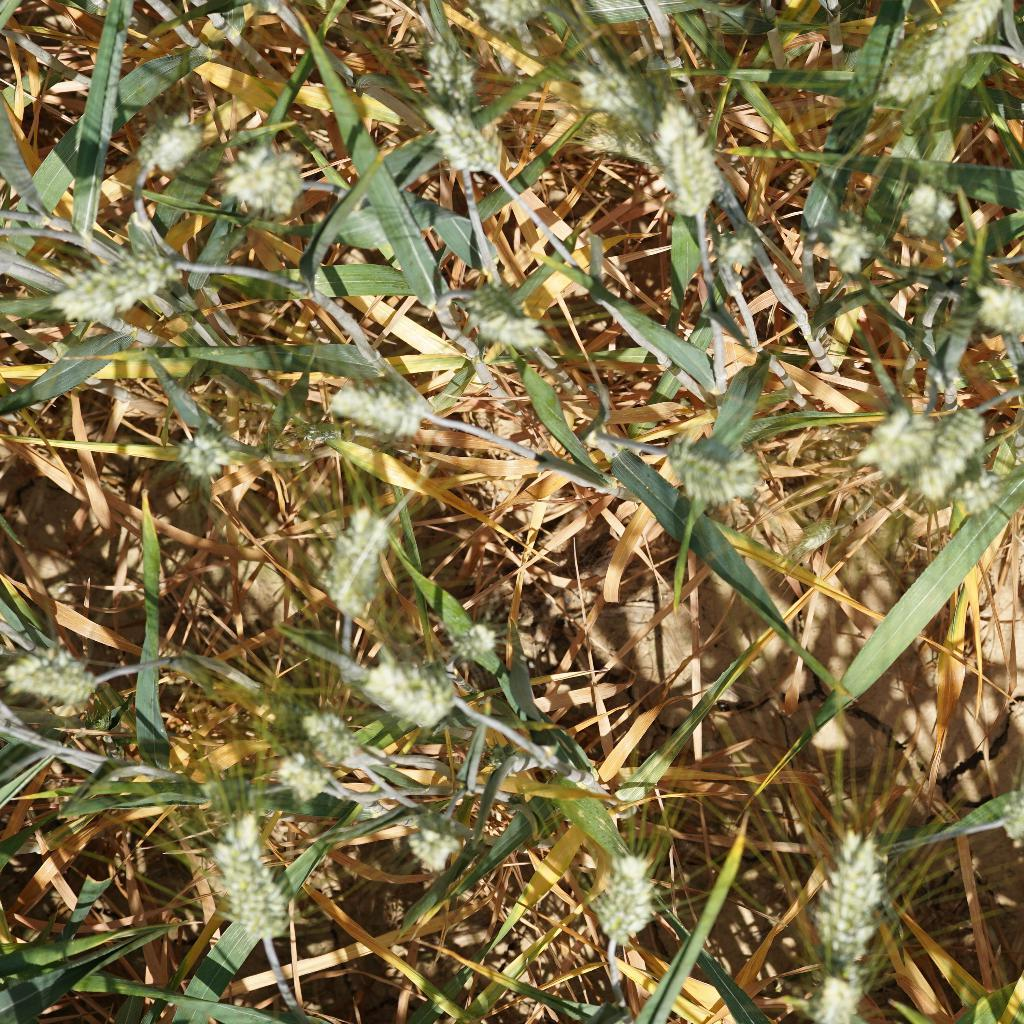0-0: (204, 803, 298, 945), (804, 825, 889, 967), (313, 489, 396, 631), (59, 240, 189, 328), (654, 89, 732, 225), (340, 654, 478, 727), (316, 366, 447, 437), (0, 631, 108, 716), (896, 397, 982, 494), (668, 428, 765, 512), (213, 141, 307, 221), (585, 847, 658, 949), (559, 41, 649, 120), (881, 19, 974, 92), (447, 287, 548, 354), (122, 115, 217, 183), (281, 702, 370, 772), (858, 396, 920, 484), (417, 26, 478, 112), (430, 112, 503, 183), (577, 124, 672, 178), (385, 814, 466, 877), (920, 0, 1012, 55), (791, 970, 883, 1024), (882, 176, 956, 240), (815, 202, 877, 277), (161, 426, 234, 479), (190, 770, 270, 816), (458, 0, 553, 37), (268, 750, 334, 803), (946, 465, 1011, 517), (979, 280, 1024, 346), (780, 516, 837, 564), (713, 222, 759, 268), (456, 616, 499, 664), (82, 702, 114, 736)
